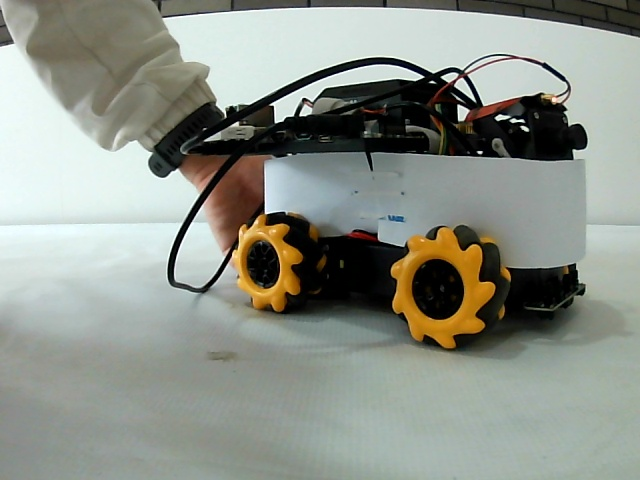car: (220, 88, 585, 348)
paper: (261, 158, 583, 242)
